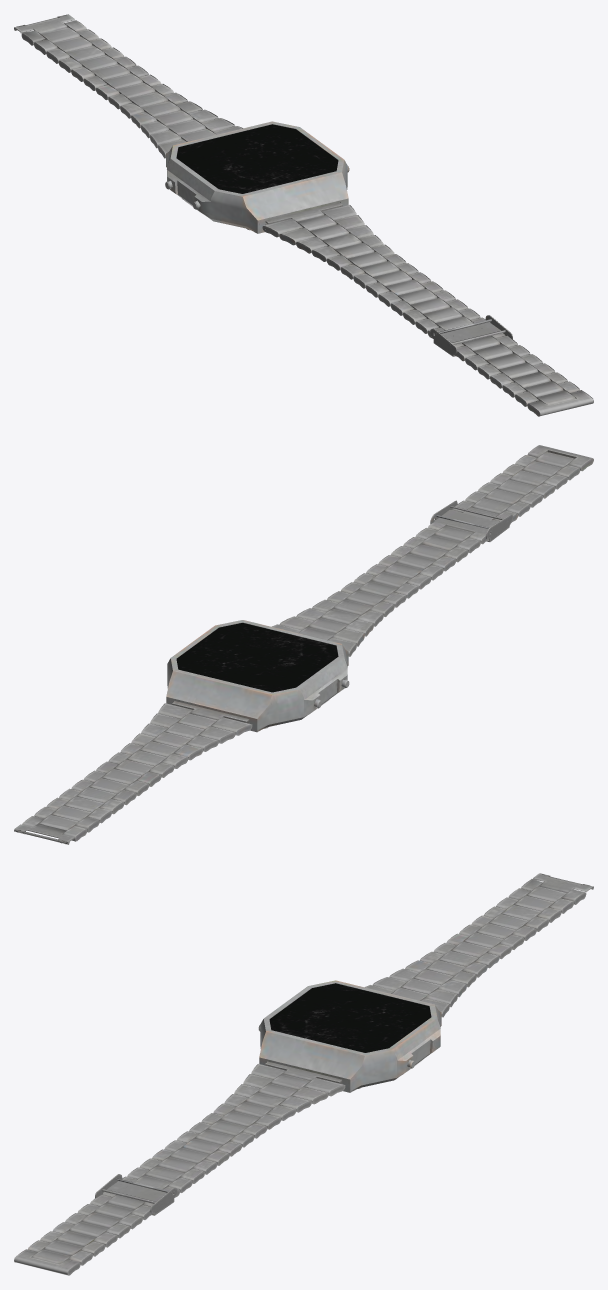
The model's file is digital_wrist_watch.glb.
3 renders of one model, top to bottom at view 1: azimuth 30°, elevation 25°; view 2: azimuth 150°, elevation 25°; view 3: azimuth 330°, elevation 25°, orthographic.
Visible parts, largest first — view 1: digital_wrist_watch_strap_b, digital_wrist_watch, digital_wrist_watch_strap_a, digital_wrist_watch_clasp; view 2: digital_wrist_watch_strap_b, digital_wrist_watch, digital_wrist_watch_strap_a, digital_wrist_watch_clasp; view 3: digital_wrist_watch_strap_b, digital_wrist_watch, digital_wrist_watch_strap_a, digital_wrist_watch_clasp.
Part boxes in pixels (box(x1,y1,x2,y2)): digital_wrist_watch_strap_b: box(262, 202, 593, 416); digital_wrist_watch: box(165, 121, 349, 233); digital_wrist_watch_strap_a: box(21, 20, 242, 158); digital_wrist_watch_clasp: box(14, 14, 74, 33); digital_wrist_watch_strap_b: box(272, 445, 593, 656); digital_wrist_watch: box(166, 620, 349, 732); digital_wrist_watch_strap_a: box(22, 701, 252, 841); digital_wrist_watch_clasp: box(14, 824, 74, 844); digital_wrist_watch_strap_b: box(14, 1061, 345, 1275); digital_wrist_watch: box(258, 980, 441, 1092); digital_wrist_watch_strap_a: box(365, 879, 586, 1017); digital_wrist_watch_clasp: box(533, 873, 593, 892).
Bounding box in the file's own units: 0.0365 × 0.00835 × 0.2173.
Materials: 2 (2 with a texture image).
